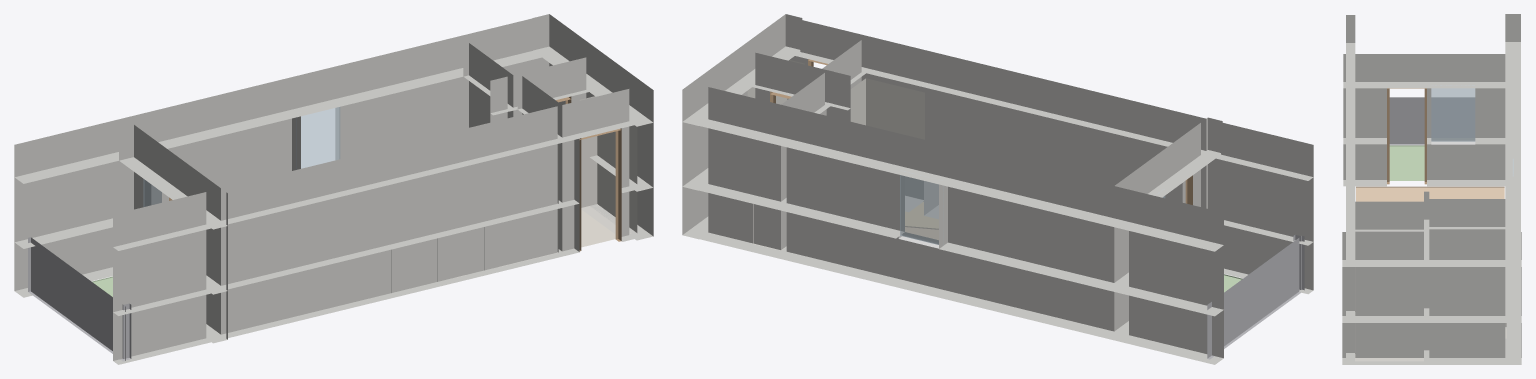
The picture shows the model from 3 angles, left to right: view 1: azimuth 30°, elevation 25°; view 2: azimuth 150°, elevation 25°; view 3: azimuth 270°, elevation 25°; orthographic projection. The views are drawn at different scales.
Visible parts, largest first — view 1: walls, railings, furniture_1_closet, window_0, door_3, floor_4_Entry; view 2: walls, railings, furniture_2_closet, window_0, furniture_6_appliance, floor_2_Kitchen; view 3: walls, railings, window_1, floor_1_Living_Room, floor_0_Outdoor, door_2, furniture_1_closet, sill_1.
Part boxes in pixels (x1,y1,x2,y2): walls: (14,14,653,364); railings: (28,237,131,361); furniture_1_closet: (579,96,637,234); window_0: (296,107,340,169); door_3: (579,128,621,251); floor_4_Entry: (581,210,615,247); walls: (682,14,1313,364); railings: (1207,235,1304,359); furniture_2_closet: (850,78,924,211); window_0: (900,171,943,244); furniture_6_appliance: (924,181,938,218); floor_2_Kitchen: (905,202,938,228); walls: (1342,14,1521,364); railings: (1389,97,1474,144); window_1: (1431,85,1475,141); floor_1_Living_Room: (1356,186,1504,201); floor_0_Outdoor: (1389,145,1424,180); door_2: (1387,88,1426,184); furniture_1_closet: (1355,267,1423,361); sill_1: (1431,140,1475,144).
Bounding box in the file's own units: 10.33 × 2.72 × 3.48.
